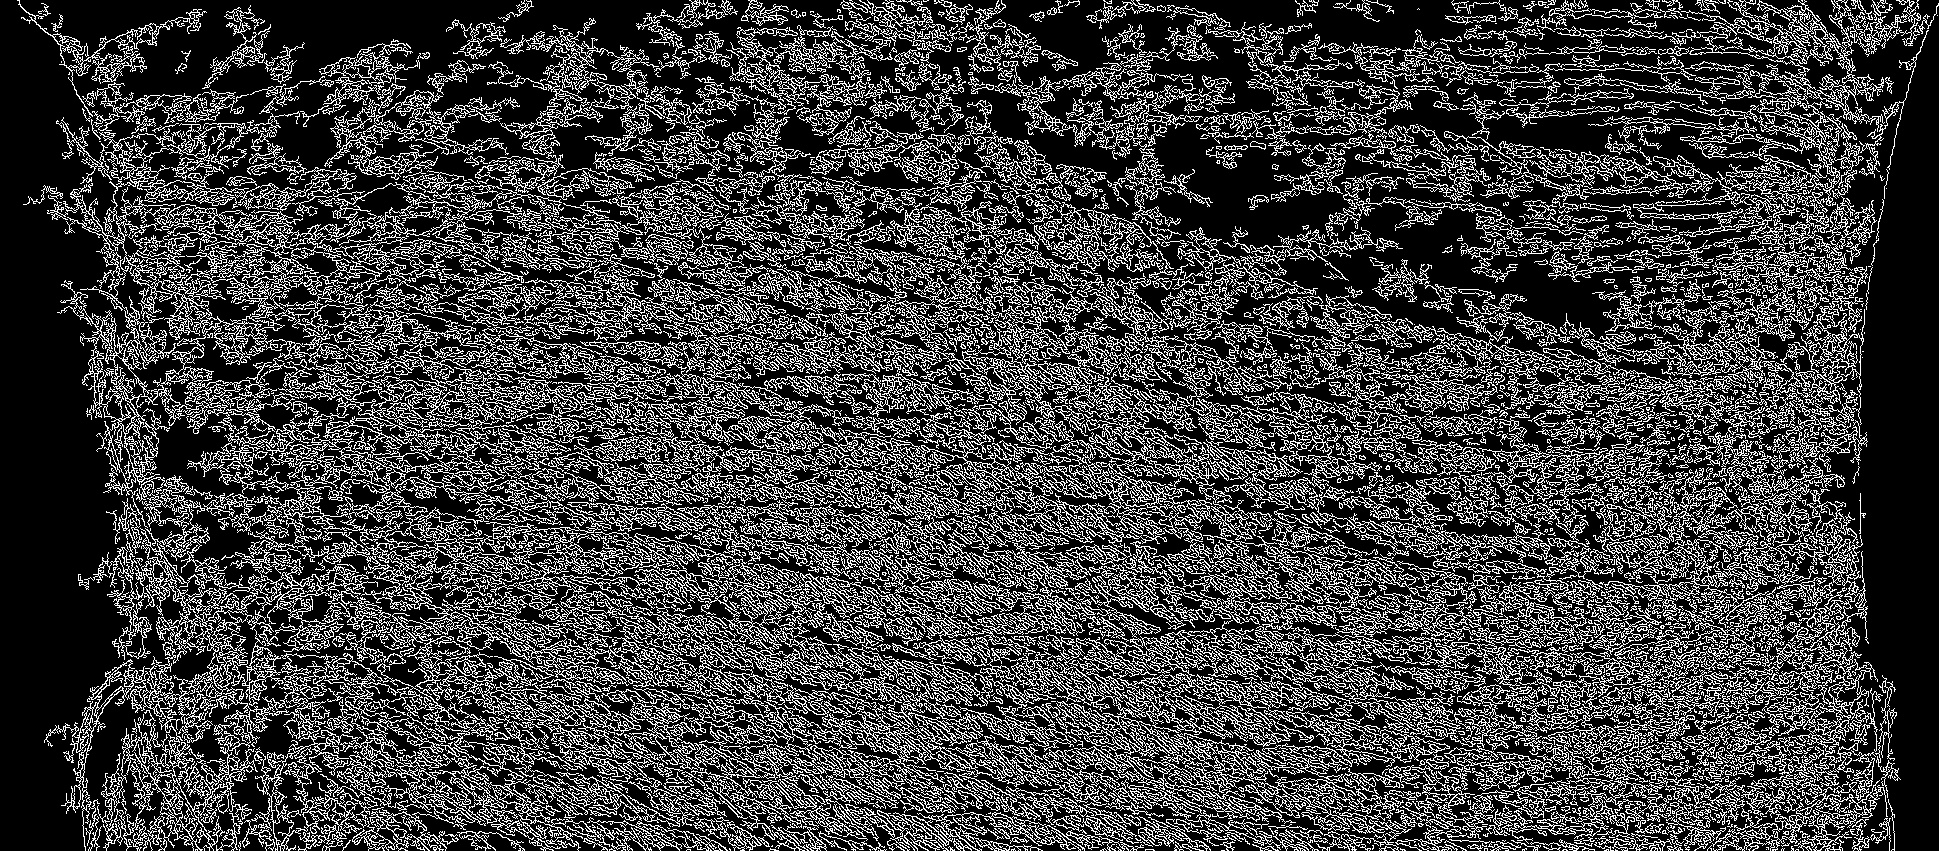singlecore: (765, 302, 769, 306), (845, 430, 848, 434), (809, 641, 812, 644), (948, 793, 952, 797), (1023, 673, 1026, 677), (1640, 550, 1643, 554), (1643, 695, 1647, 699), (1553, 709, 1557, 712), (1284, 720, 1287, 724), (448, 562, 451, 564), (684, 356, 688, 359), (718, 532, 721, 536), (733, 479, 736, 482), (831, 412, 833, 416), (864, 699, 867, 703), (1047, 454, 1051, 456), (1051, 437, 1054, 440), (1054, 550, 1056, 554), (923, 632, 926, 635), (1676, 468, 1679, 470), (1593, 783, 1596, 785), (441, 429, 444, 432), (675, 184, 678, 187), (730, 205, 732, 208), (817, 547, 820, 549), (831, 515, 833, 517), (831, 473, 833, 475), (1026, 433, 1029, 435), (951, 528, 953, 531), (1045, 541, 1047, 543), (916, 653, 919, 656), (1402, 481, 1405, 484)
